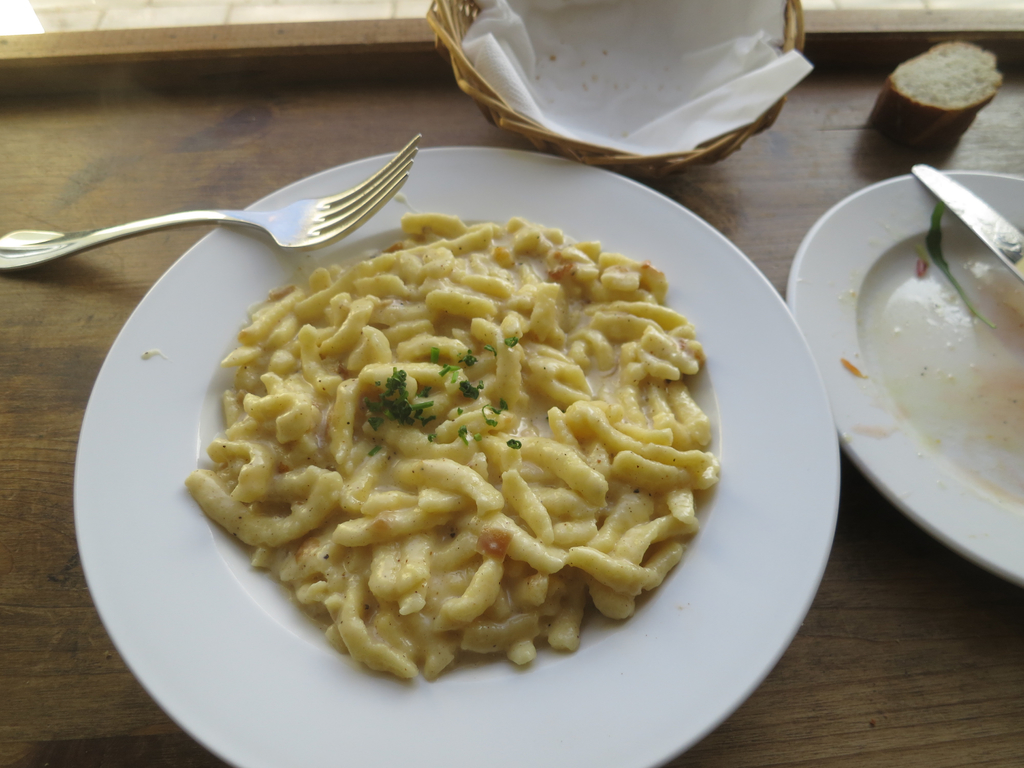plate: (808, 158, 1023, 583)
